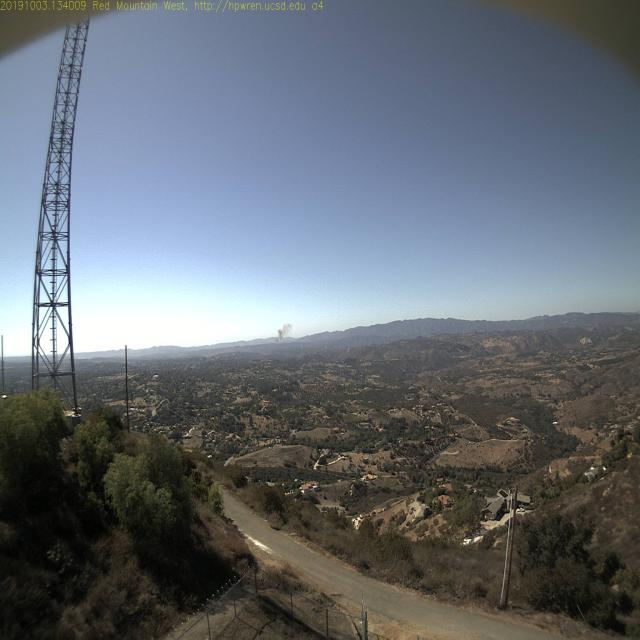smoke: (271, 317, 295, 348), (268, 320, 294, 347)
